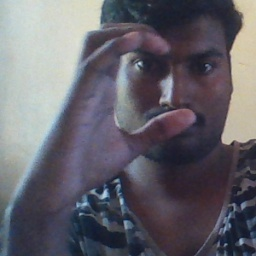C: (80, 24, 199, 154)
